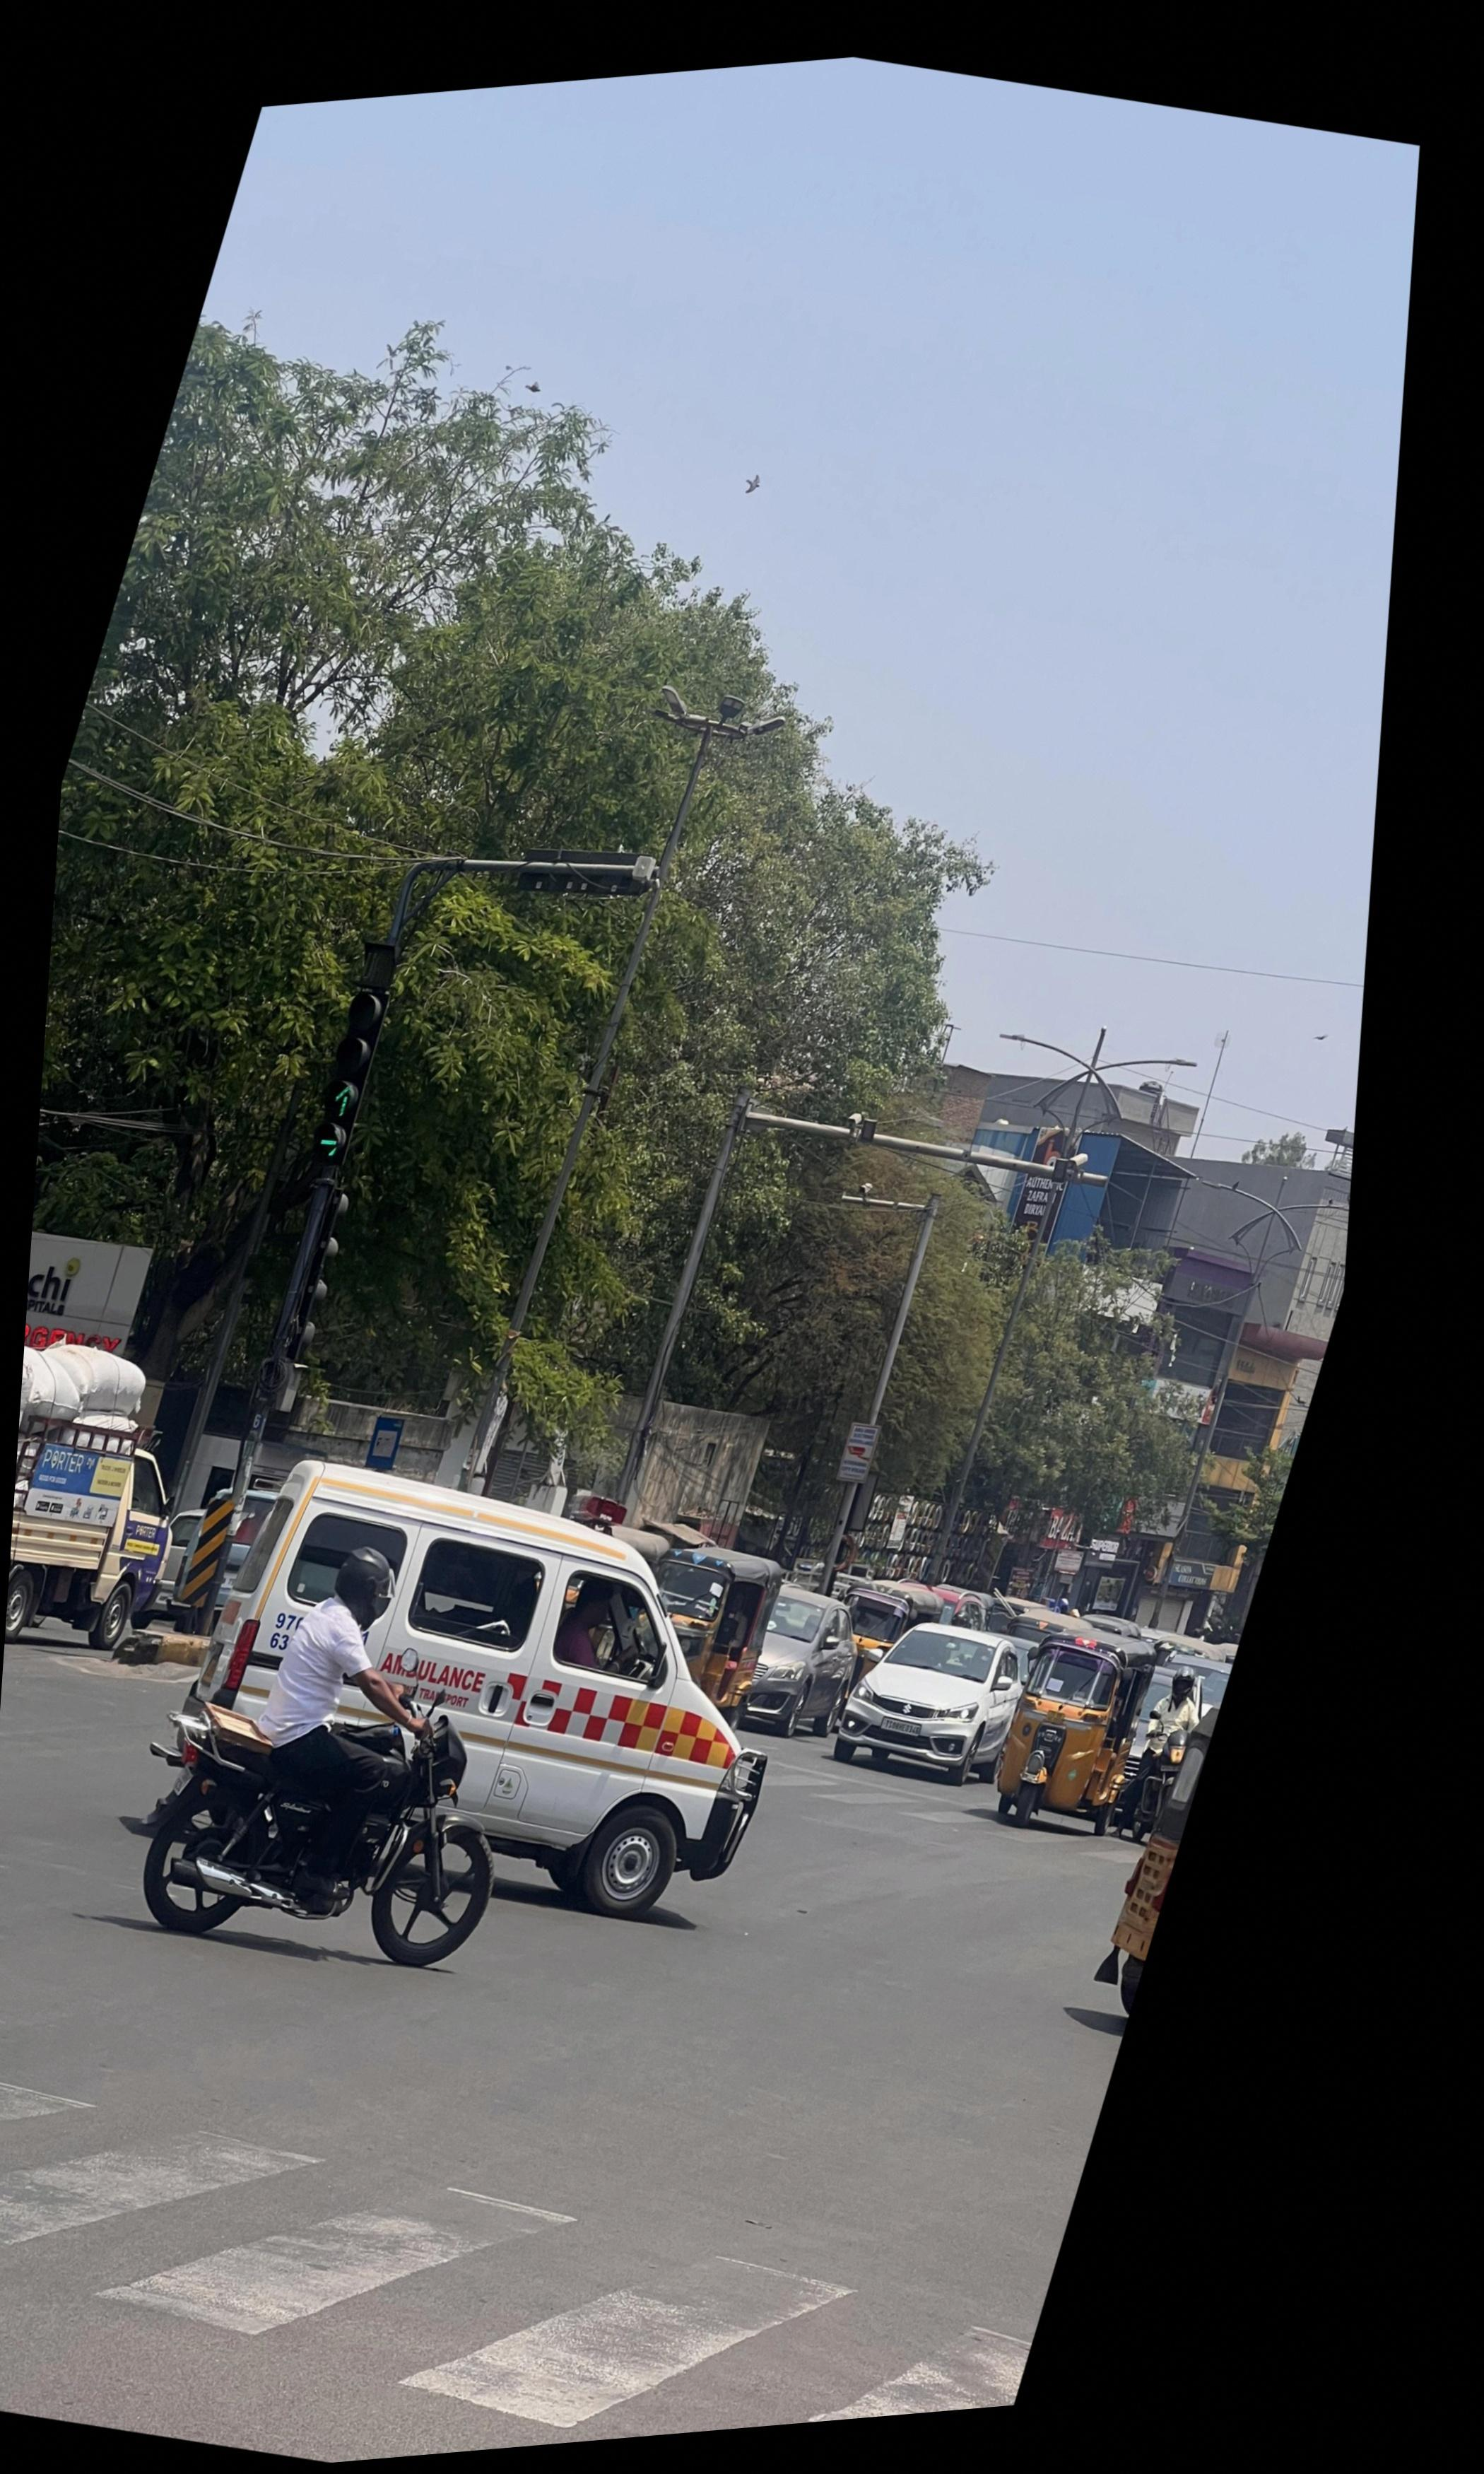ambulance: (216, 1465, 763, 1916)
